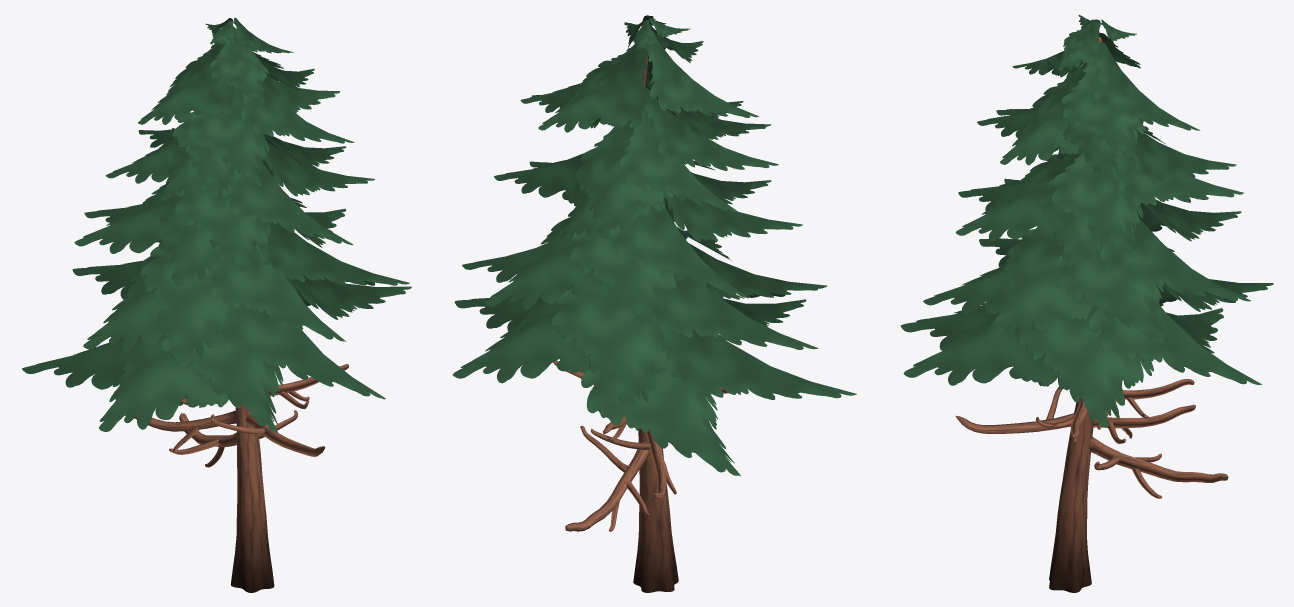
Rendered from Yew_2.glb.
3 views of the same model, side by side, from view 1: azimuth 30°, elevation 25°; view 2: azimuth 150°, elevation 25°; view 3: azimuth 270°, elevation 25° (orthographic). The views are drawn at different scales.
Visible parts, largest first — view 1: Pine_1; view 2: Pine_1; view 3: Pine_1.
Part boxes in pixels (x1=…): Pine_1: x1=22, y1=18, x2=411, y2=592; Pine_1: x1=453, y1=15, x2=856, y2=592; Pine_1: x1=900, y1=14, x2=1273, y2=592.
Bounding box in the file's own units: 4.94 × 7.32 × 4.54.
Materials: 2 (2 with a texture image).
